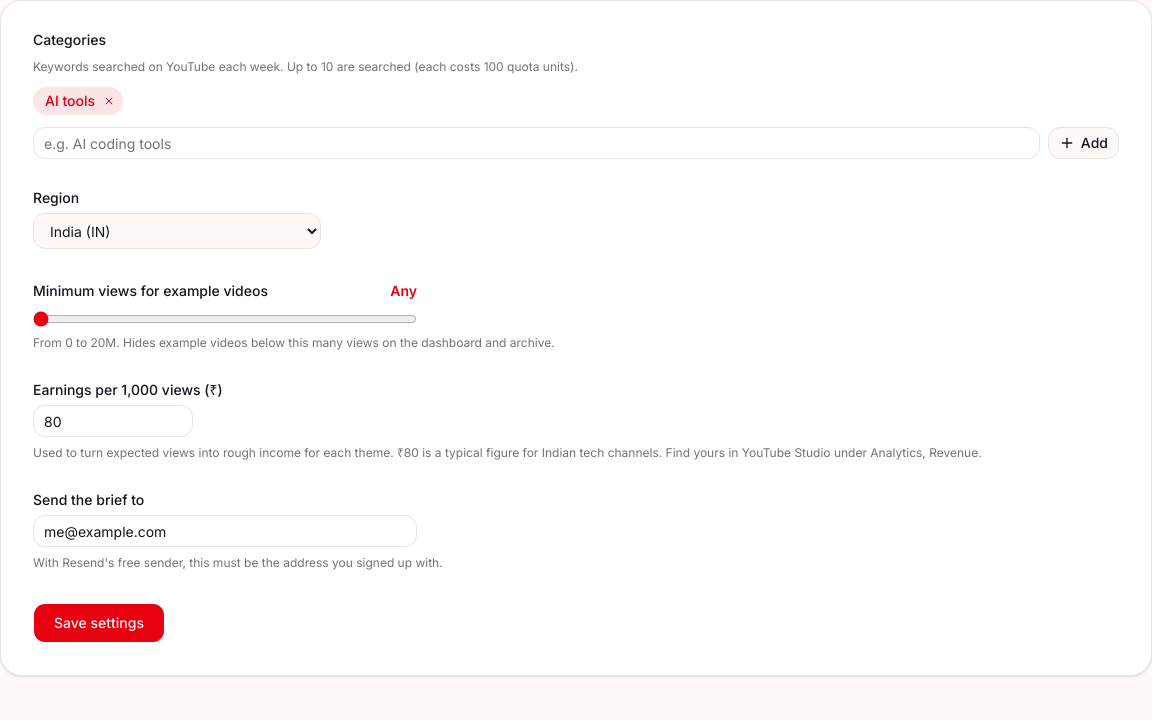
Test case: SettingsForm categories › adds a category with the Add button and with Enter, then clears the box
The width and height of the screenshot is (1152, 720).
Step 1. Type "ChatGPT" into the field labelled "Categories" → (536, 143), box [33,127,1040,159]
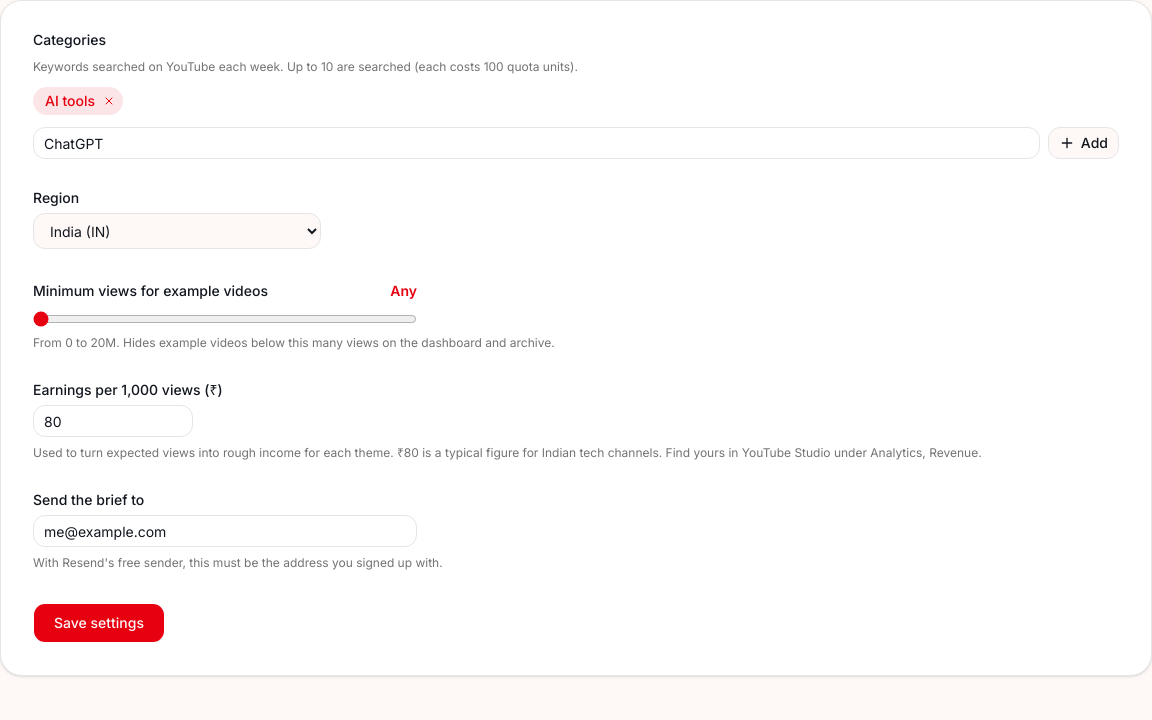
Step 2. Click the button "Add" → (1083, 143), box [1048,127,1119,159]
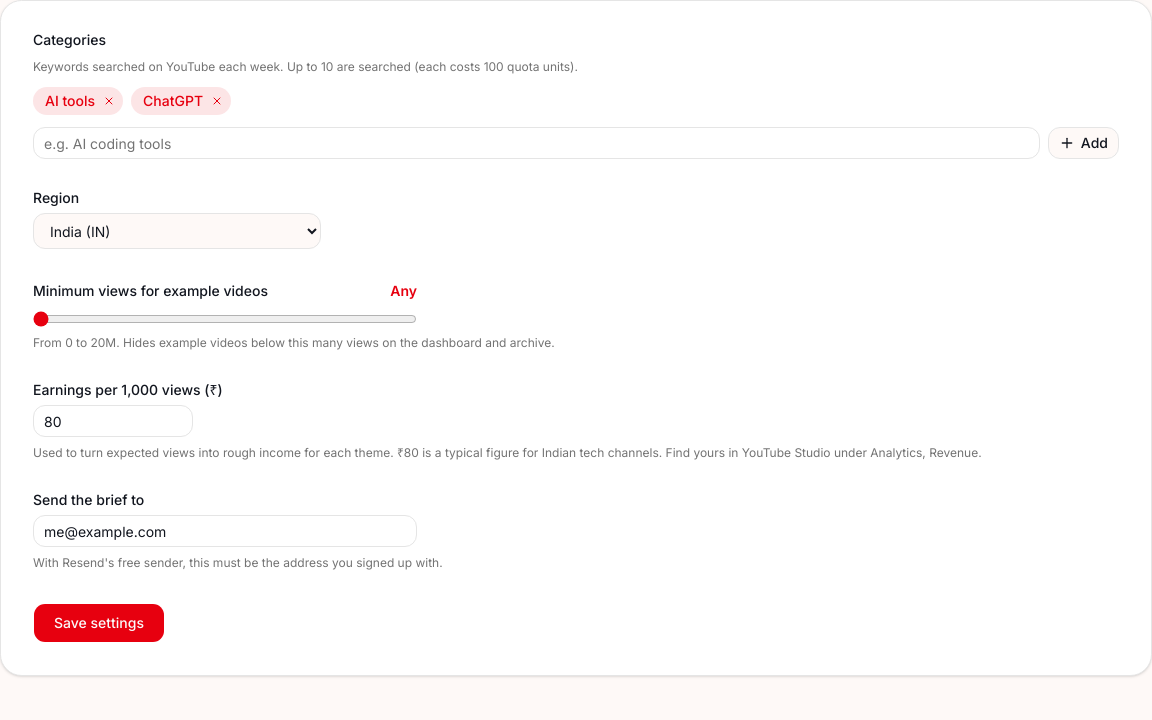
Step 3. Type "Gemini AI" into the field labelled "Categories" → (536, 143), box [33,127,1040,159]
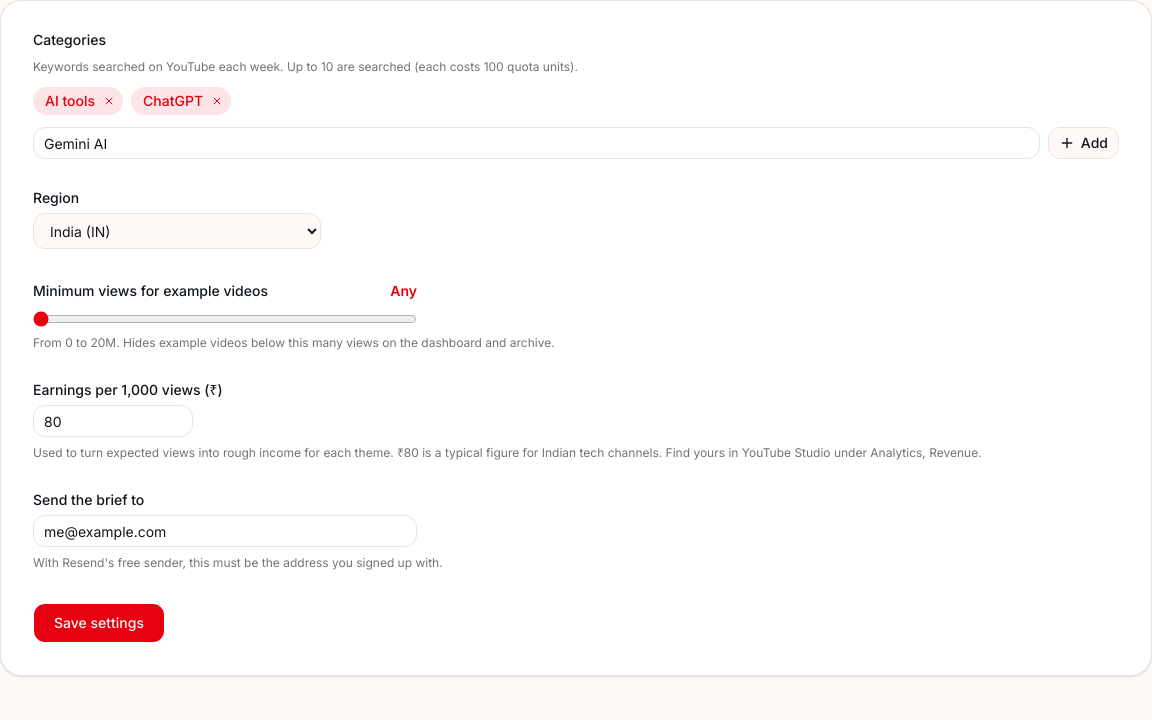
Step 4. Press Enter in the field labelled "Categories", box [33,127,1040,159]
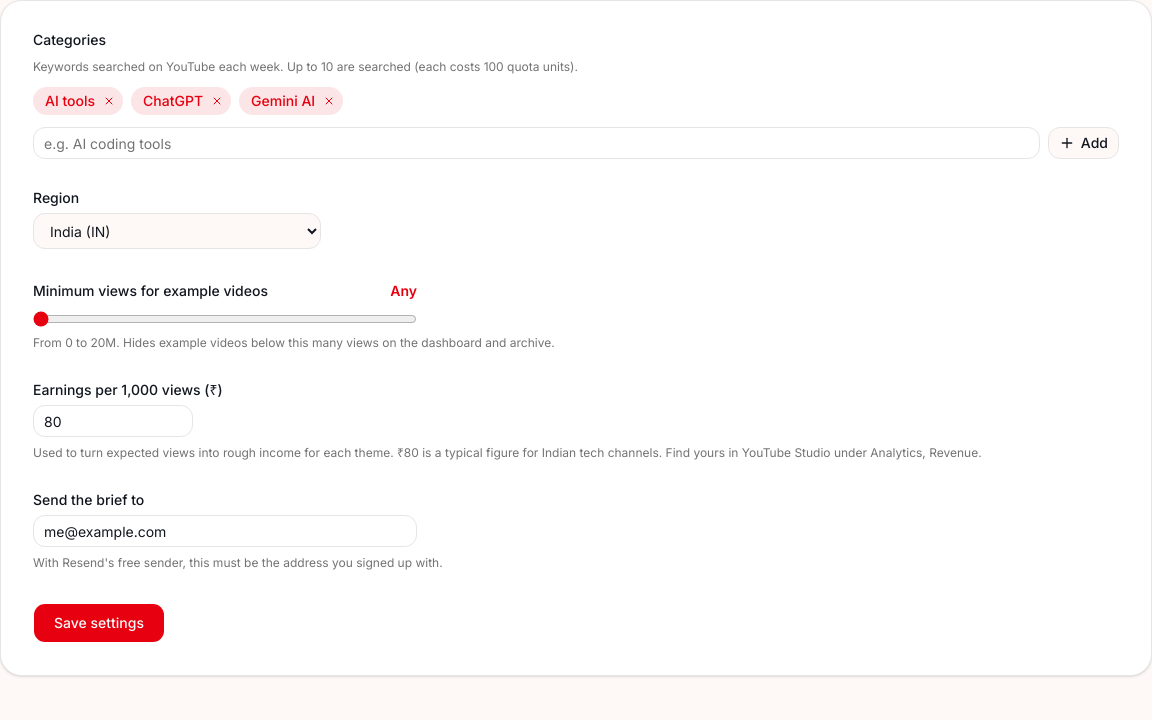
Expected: the number of list items is 3, [33,87,123,115]; [131,87,231,115]; [239,87,343,115]
Expected: the field labelled "Categories" is empty, [33,127,1040,159]
